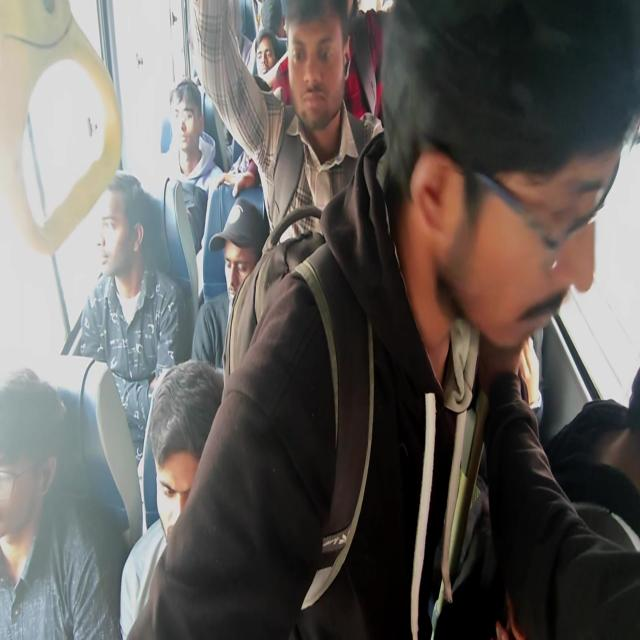person: (124, 0, 639, 638), (189, 0, 385, 252), (74, 170, 186, 534), (0, 367, 122, 638), (119, 358, 224, 638), (544, 364, 639, 552), (162, 78, 226, 303), (191, 197, 269, 371), (254, 27, 280, 77)
